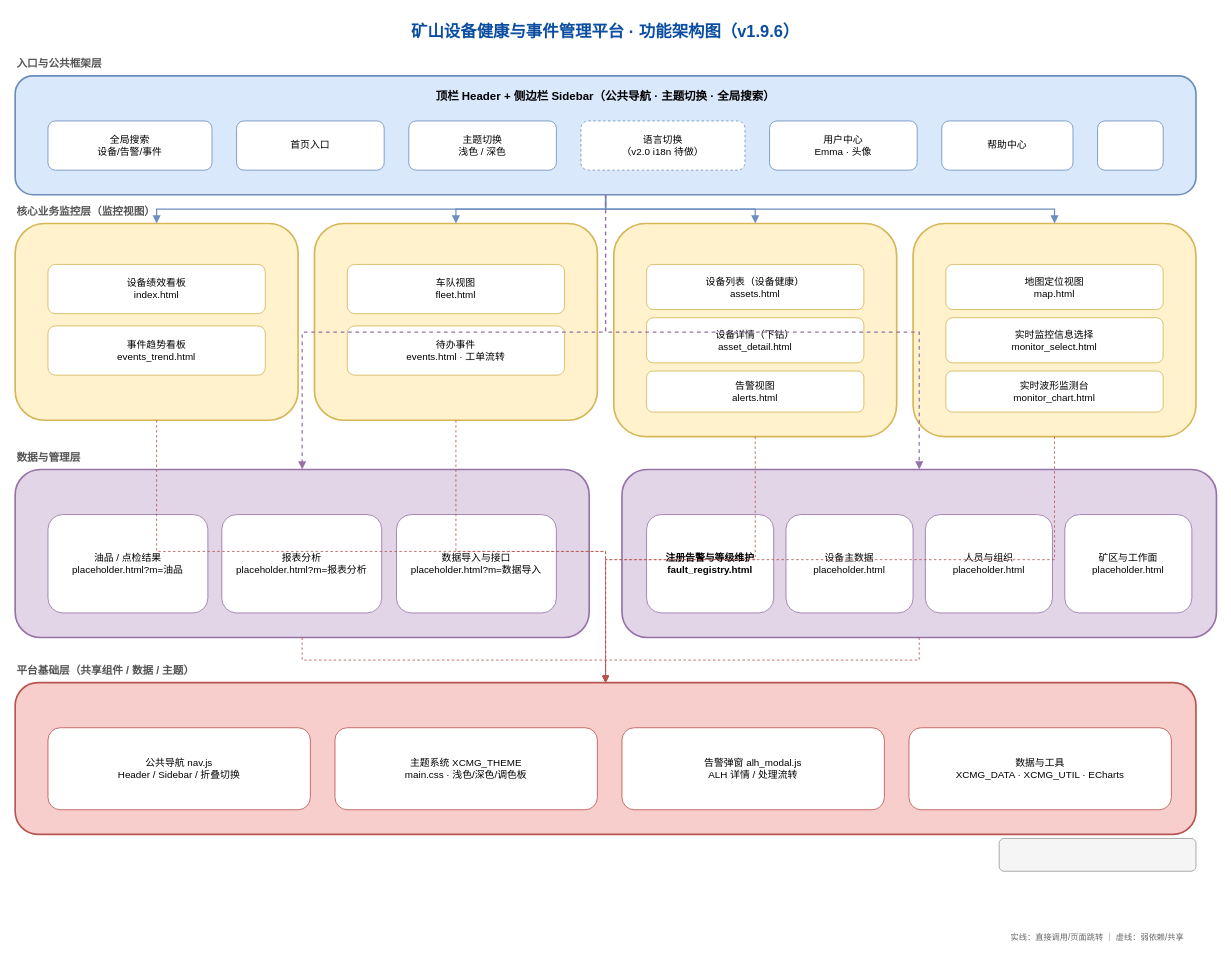
The diagram is 1231 pixels wide and 959 high, and some of its shapes have lost their labels. The box of each missing label's shape, as (x1, y1, x2, y2) in pixels:
侧边栏折叠/展开 localStorage 持久化: (1097, 120, 1163, 170)
共享组件 · 数据 · 主题（所有页面公用）: (14, 681, 1196, 835)
图例: (998, 838, 1196, 871)
基础数据管理: (621, 468, 1217, 638)
实时与地图监控: (912, 222, 1196, 437)
设备健康监控: (613, 222, 897, 437)
设备运维BI（看板分析）: (14, 222, 298, 421)
车队与工单: (313, 222, 598, 421)
运营数据: (14, 468, 590, 638)
